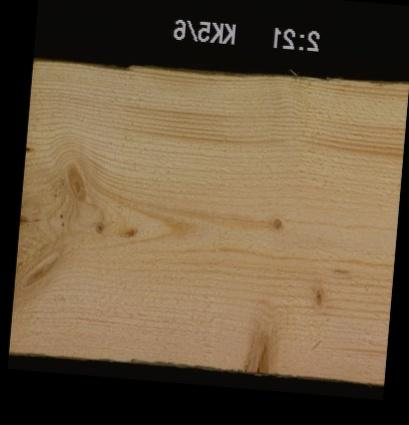small_knot: (307, 281, 327, 307), (90, 214, 107, 235), (267, 212, 284, 232)
split: (20, 208, 67, 228)
wave: (80, 58, 130, 70)
